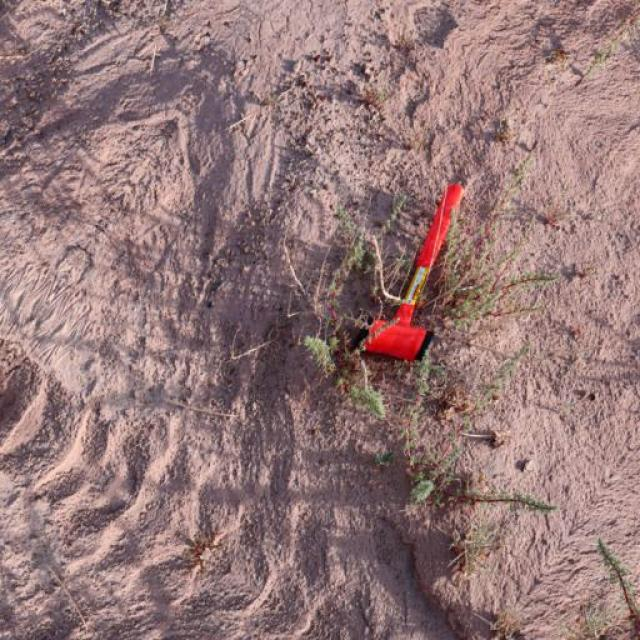mallet: (355, 181, 466, 361)
